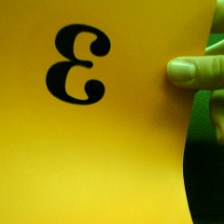orange3: (41, 18, 111, 105)
